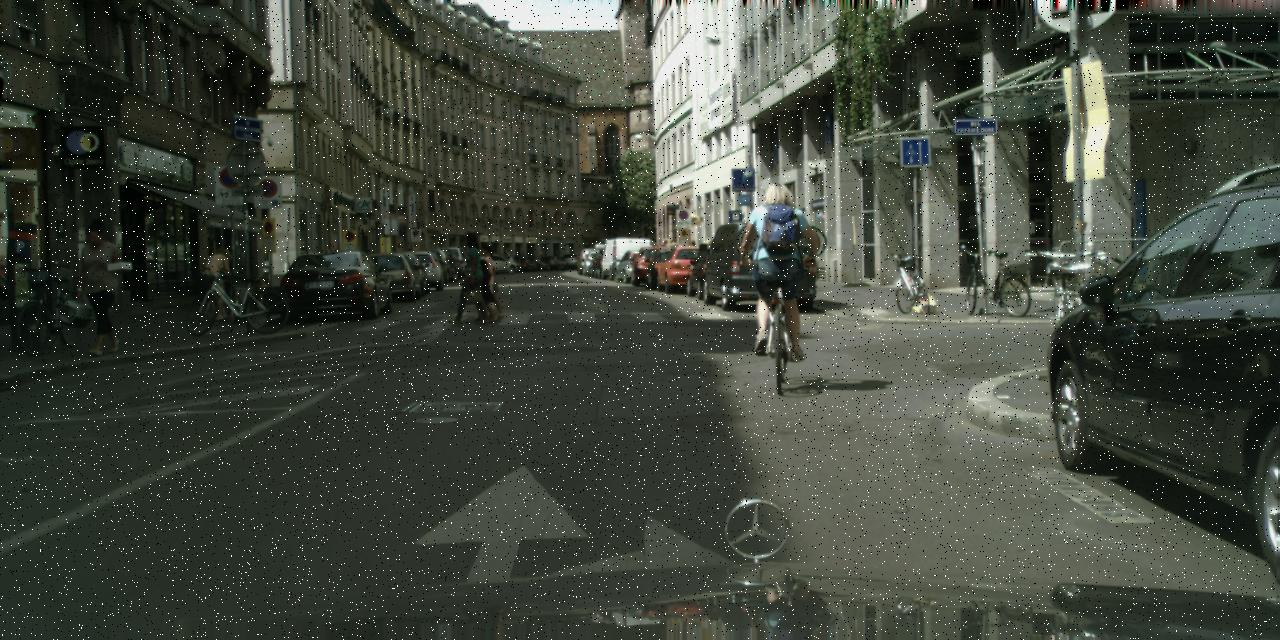ped: (741, 182, 813, 358), (74, 219, 128, 353), (451, 232, 489, 324), (476, 244, 505, 318), (205, 249, 234, 319), (472, 259, 496, 320), (517, 250, 526, 272)
